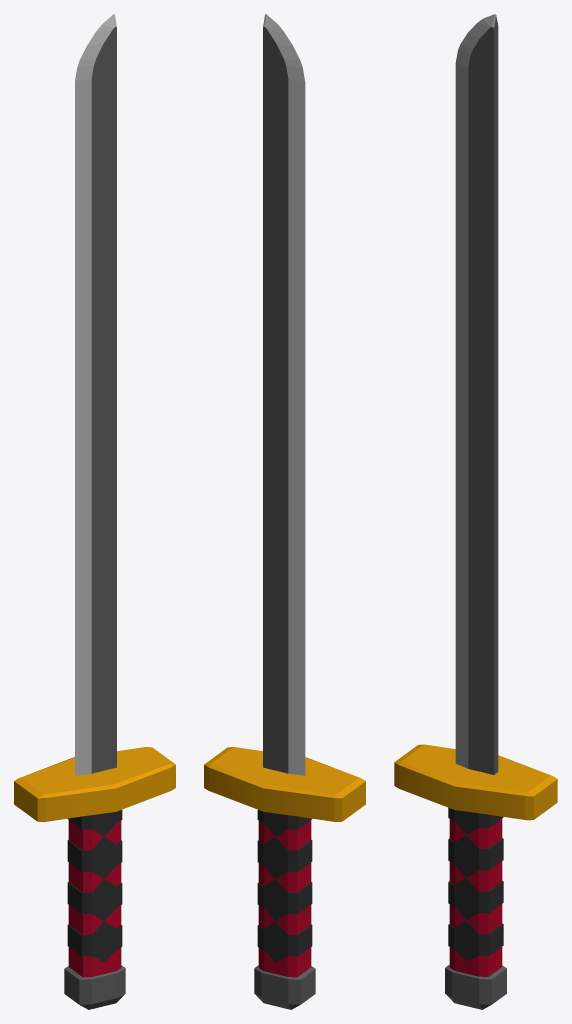
The model's file is Katana.FBX.
3 views of the same model, side by side, from view 1: azimuth 30°, elevation 25°; view 2: azimuth 150°, elevation 25°; view 3: azimuth 330°, elevation 25° (orthographic).
Visible parts, largest first — view 1: Box001; view 2: Box001; view 3: Box001.
Boxes of the visible parts, box(x1,y1,x2,y2) form: Box001: box(14, 14, 175, 1009); Box001: box(204, 14, 365, 1009); Box001: box(394, 14, 557, 1009).
Size of the model in its own units: 117 by 795 by 62.45.
